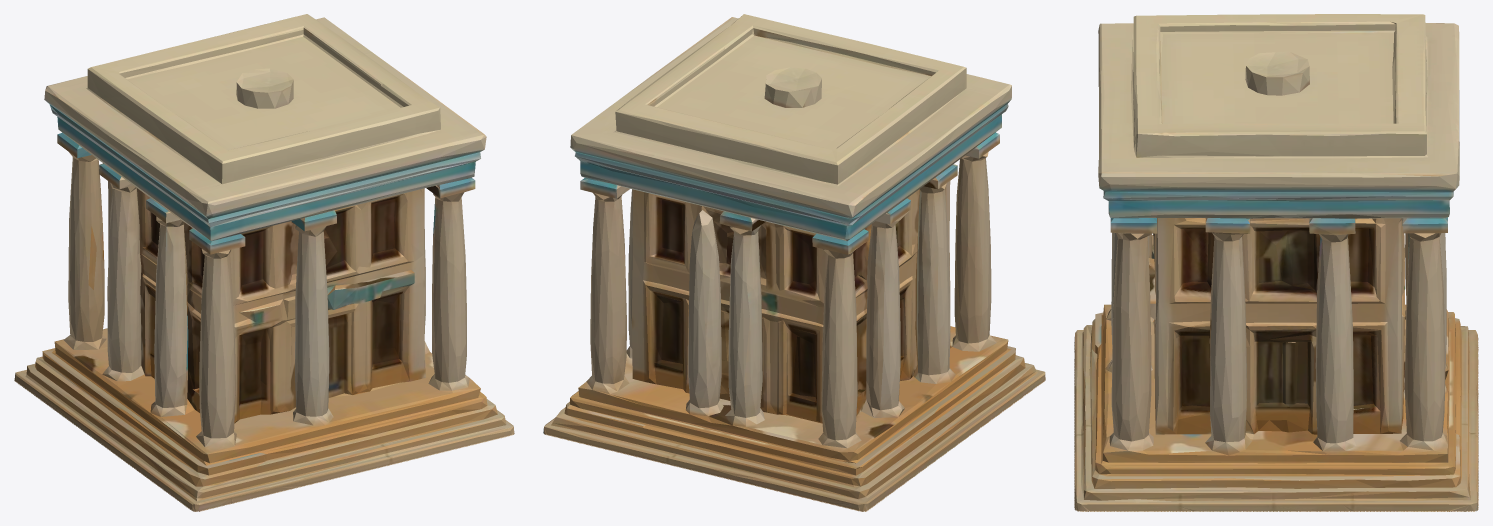
The model's file is bank.glb.
The picture shows the model from 3 angles, left to right: view 1: azimuth 30°, elevation 25°; view 2: azimuth 150°, elevation 25°; view 3: azimuth 270°, elevation 25°; orthographic projection. The views are drawn at different scales.
Parts seen in each view (by area): view 1: figure; view 2: figure; view 3: figure.
Boxes of the visible parts, x1,y1,x2,y2 form: figure: (14, 14, 514, 511); figure: (543, 14, 1045, 511); figure: (1074, 14, 1478, 511).
Bounding box in the file's own units: 1.04 × 1 × 1.01.
Materials: 1 (1 with a texture image).
